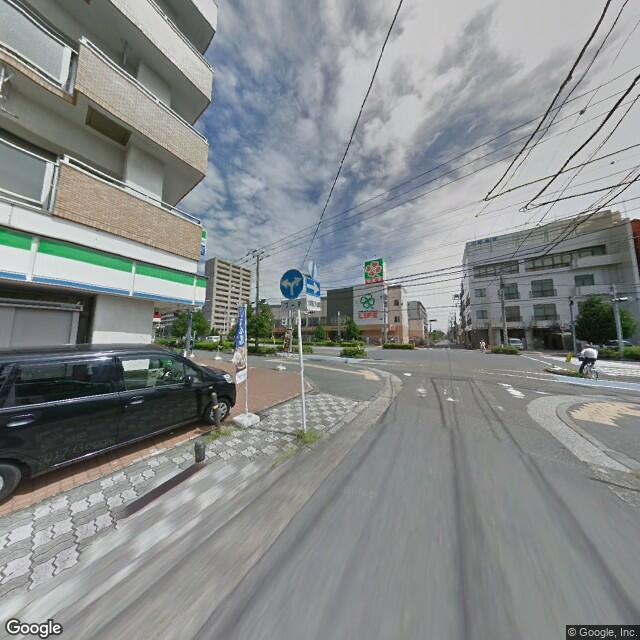family_mart: (2, 225, 205, 303)
